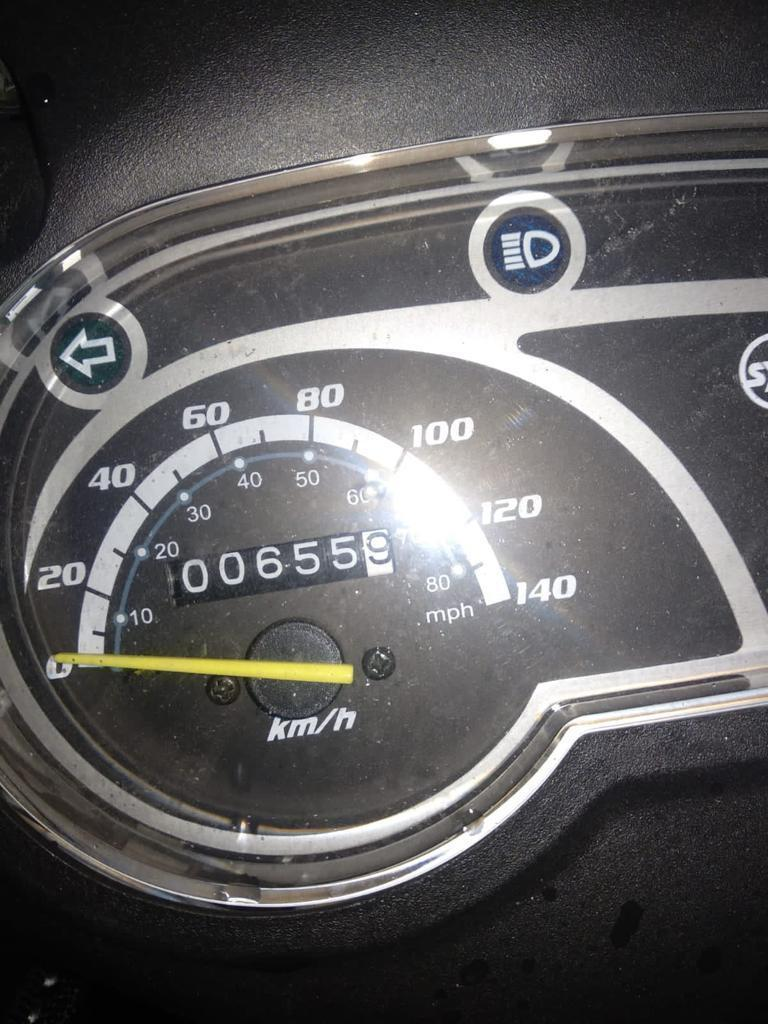0: (217, 549, 248, 586), (182, 557, 210, 595)
5: (328, 534, 360, 574), (291, 536, 321, 577)
6: (253, 543, 288, 582)
9: (363, 530, 397, 573)
odometer: (177, 525, 401, 602)
